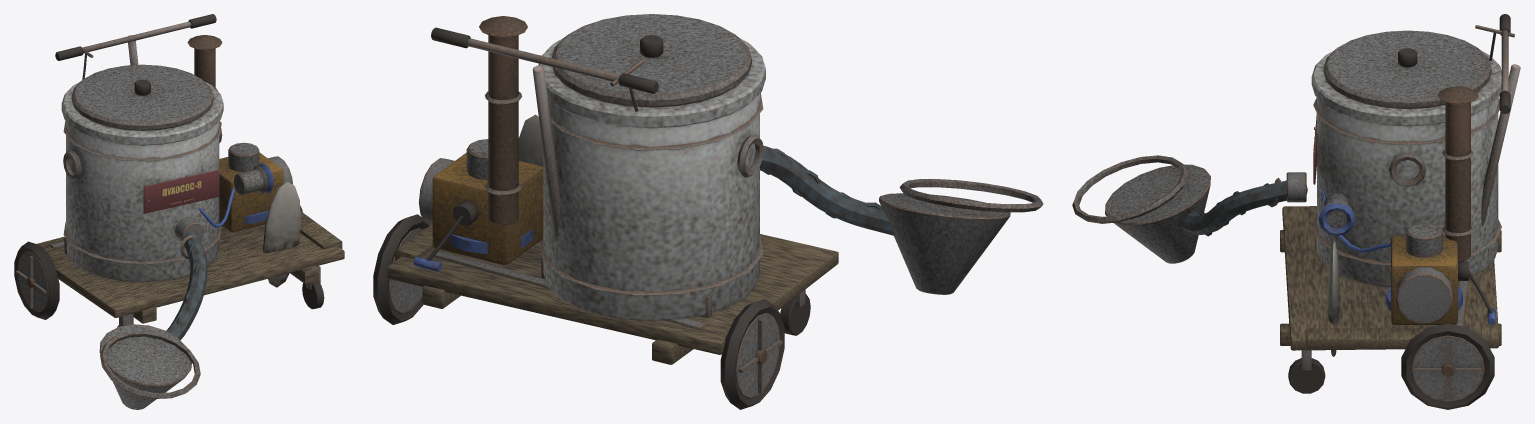
File: g67_puhosos.glb
3 renders of one model, left to right at view 1: azimuth 30°, elevation 25°; view 2: azimuth 150°, elevation 25°; view 3: azimuth 270°, elevation 25°, orthographic. The views are drawn at different scales.
Parts seen in each view (by area): view 1: tank, deck, hose, tank_lid, tank_rim, motor, bag, plate, wl_tire, wl_rim, filter, cleat (+10 smaller); view 2: tank, hose, deck, tank_lid, motor, tank_rim, exhaust, wl_tire, wr_tire, wl_rim, stem, bar (+13 smaller); view 3: tank, hose, deck, tank_lid, tank_rim, exhaust, wr_rim, motor, wr_tire, fan, cleat, stem (+11 smaller).
Boxes of the visible parts, x1,y1,x2,y2 form: tank: (66,121,219,282); deck: (37,224,344,317); hose: (99,231,207,409); tank_lid: (71,64,213,130); tank_rim: (61,82,223,145); motor: (219,152,283,231); bag: (263,181,301,287); plate: (143,170,218,213); wl_tire: (14,241,59,319); wl_rim: (17,251,48,312); filter: (228,142,259,171); cleat: (300,211,342,249); tank: (543,94,759,320); hose: (760,145,1043,294); deck: (387,234,838,354); tank_lid: (551,14,751,107); motor: (432,152,543,264); tank_rim: (538,38,765,128); exhaust: (488,35,518,225); wl_tire: (720,299,784,409); wr_tire: (373,214,429,324); wl_rim: (736,313,780,398); stem: (532,65,560,242); bar: (466,38,620,81); tank: (1317,98,1498,286); hose: (1072,155,1307,263); deck: (1282,206,1499,350); tank_lid: (1323,30,1491,108); tank_rim: (1311,50,1501,126); exhaust: (1445,102,1470,261); wr_rim: (1411,335,1484,402); motor: (1391,235,1457,324); wr_tire: (1401,323,1494,409); fan: (1396,267,1452,323); cleat: (1306,328,1474,347); stem: (1481,64,1520,226).
Bounding box in the file's own units: 1.3 × 0.9283 × 1.33.
1 material, 1 textured.
